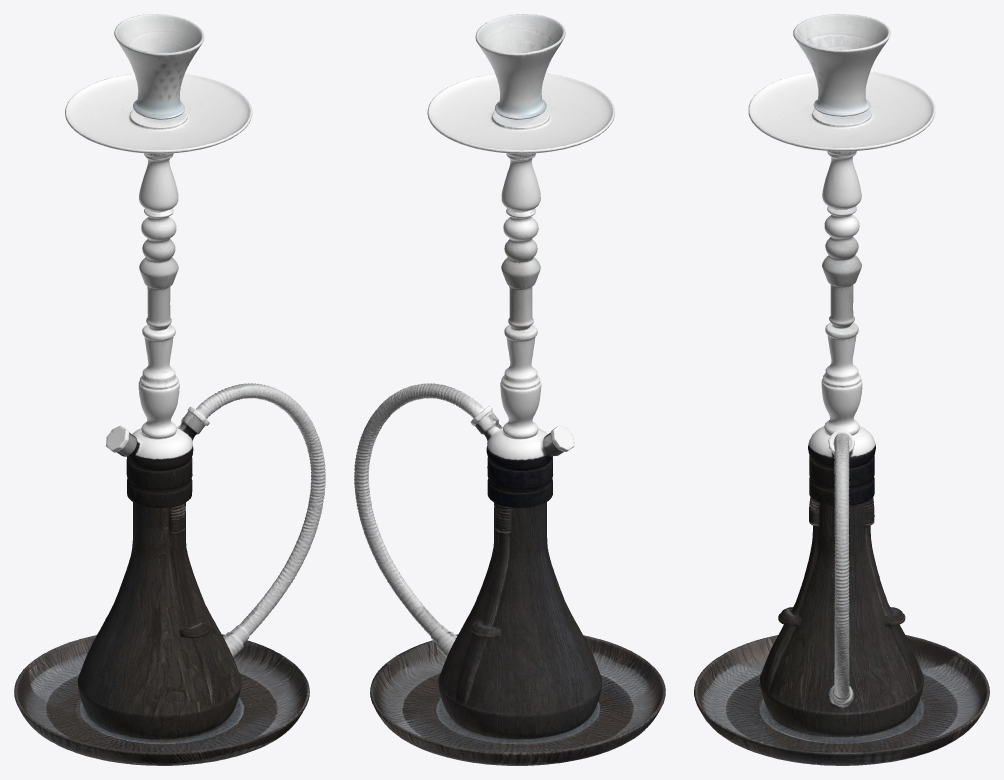
File: hookah_crystal.glb
The picture shows the model from 3 angles, left to right: view 1: azimuth 30°, elevation 25°; view 2: azimuth 150°, elevation 25°; view 3: azimuth 270°, elevation 25°; orthographic projection.
Bounding box in the file's own units: 0.8463 × 1.9 × 0.7461.
Materials: 1 (1 with a texture image).
